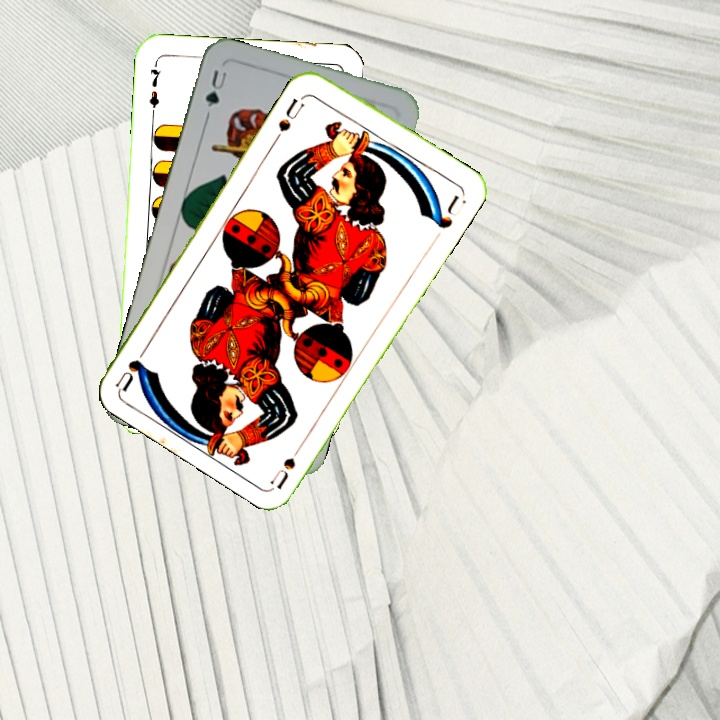E7: (145, 58, 164, 118)
GU: (201, 66, 230, 120)
SU: (267, 435, 308, 491), (274, 91, 310, 134)
